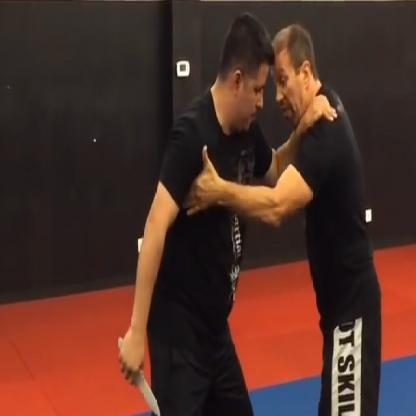knife: (114, 328, 166, 415)
